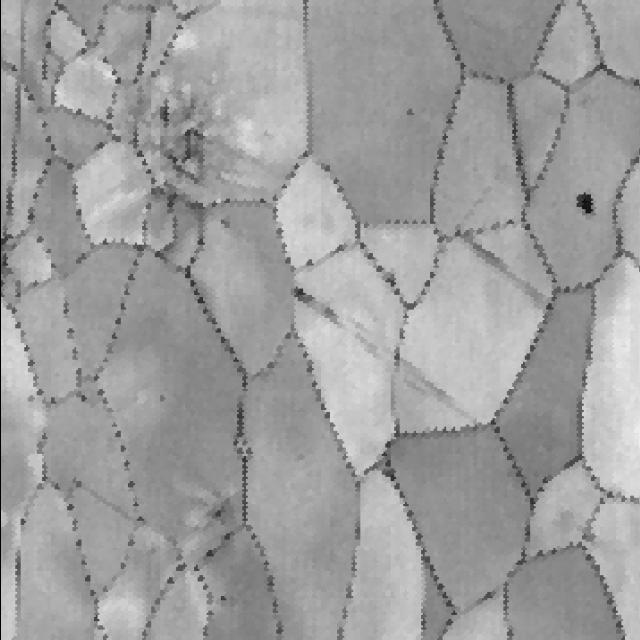good_void: (149, 90, 223, 214), (286, 283, 338, 325), (567, 180, 605, 236), (200, 488, 236, 526), (150, 386, 172, 421), (214, 211, 237, 241), (212, 579, 232, 611), (402, 102, 416, 118)
